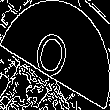O_SW: (32, 22, 78, 88)
